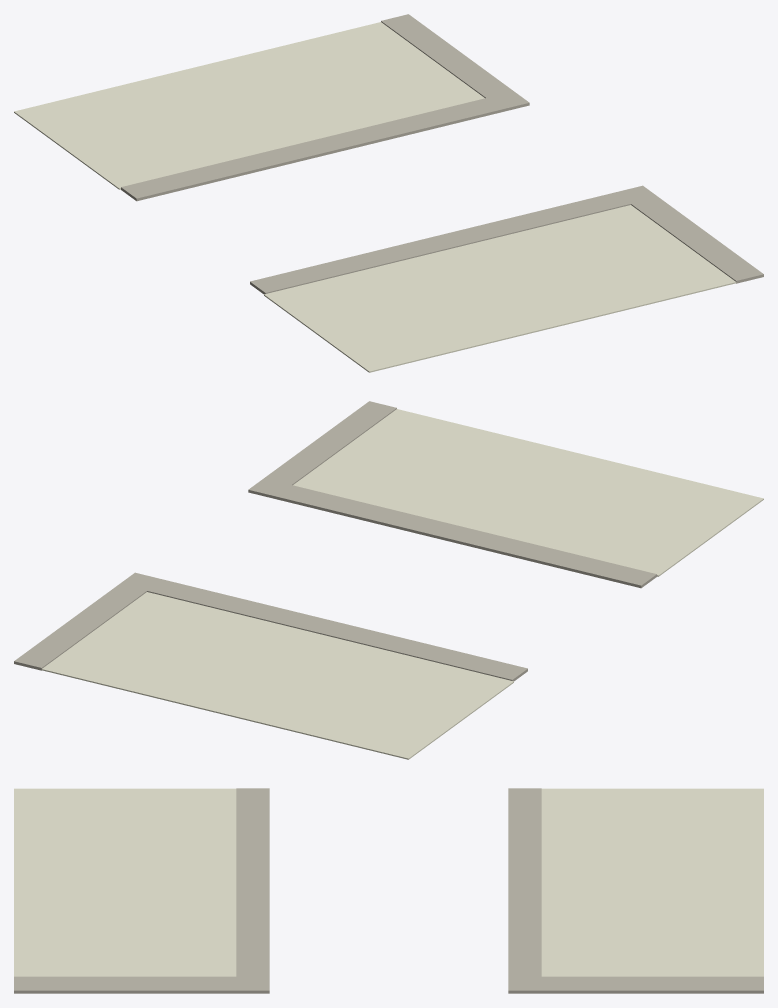
File: SideRoad2.fbx
3 renders of one model, top to bottom at view 1: azimuth 30°, elevation 25°; view 2: azimuth 150°, elevation 25°; view 3: azimuth 270°, elevation 25°, orthographic. The views are drawn at different scales.
Visible parts, largest first — view 1: polySurface95, polySurface96; view 2: polySurface96, polySurface95; view 3: polySurface95, polySurface96.
Part boxes in pixels (bbox=[...]): polySurface95: bbox=[250, 185, 763, 372]; polySurface96: bbox=[14, 14, 529, 201]; polySurface96: bbox=[14, 572, 527, 759]; polySurface95: bbox=[248, 401, 763, 588]; polySurface95: bbox=[14, 788, 269, 993]; polySurface96: bbox=[508, 788, 763, 993].
Bounding box in the file's own units: 130 × 0.858 × 202.
1 material, 1 textured.
